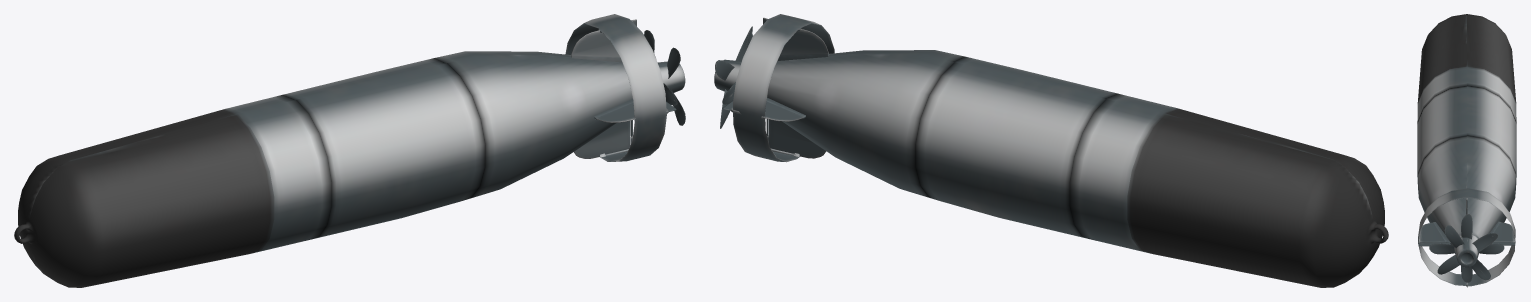
The model's file is yulei.fbx.
The picture shows the model from 3 angles, left to right: view 1: azimuth 30°, elevation 25°; view 2: azimuth 150°, elevation 25°; view 3: azimuth 270°, elevation 25°; orthographic projection. The views are drawn at different scales.
Visible parts, largest first — view 1: 3d66-Editable_Poly-22694978-013, 3d66-Editable_Poly-22694978-009, 3d66-Editable_Poly-22694978-012; view 2: 3d66-Editable_Poly-22694978-013, 3d66-Editable_Poly-22694978-009, 3d66-Editable_Poly-22694978-012; view 3: 3d66-Editable_Poly-22694978-013, 3d66-Editable_Poly-22694978-012, 3d66-Editable_Poly-22694978-009.
Part boxes in pixels (box(x1,y1,x2,y2)): 3d66-Editable_Poly-22694978-013: box(14, 30, 634, 287); 3d66-Editable_Poly-22694978-009: box(565, 14, 676, 161); 3d66-Editable_Poly-22694978-012: box(644, 30, 685, 125); 3d66-Editable_Poly-22694978-013: box(765, 29, 1388, 287); 3d66-Editable_Poly-22694978-009: box(723, 14, 834, 162); 3d66-Editable_Poly-22694978-012: box(714, 26, 752, 128); 3d66-Editable_Poly-22694978-013: box(1417, 14, 1516, 244); 3d66-Editable_Poly-22694978-012: box(1429, 214, 1504, 282); 3d66-Editable_Poly-22694978-009: box(1418, 188, 1515, 287).
Size of the model in its own units: 62.18 by 12.15 by 11.96.
